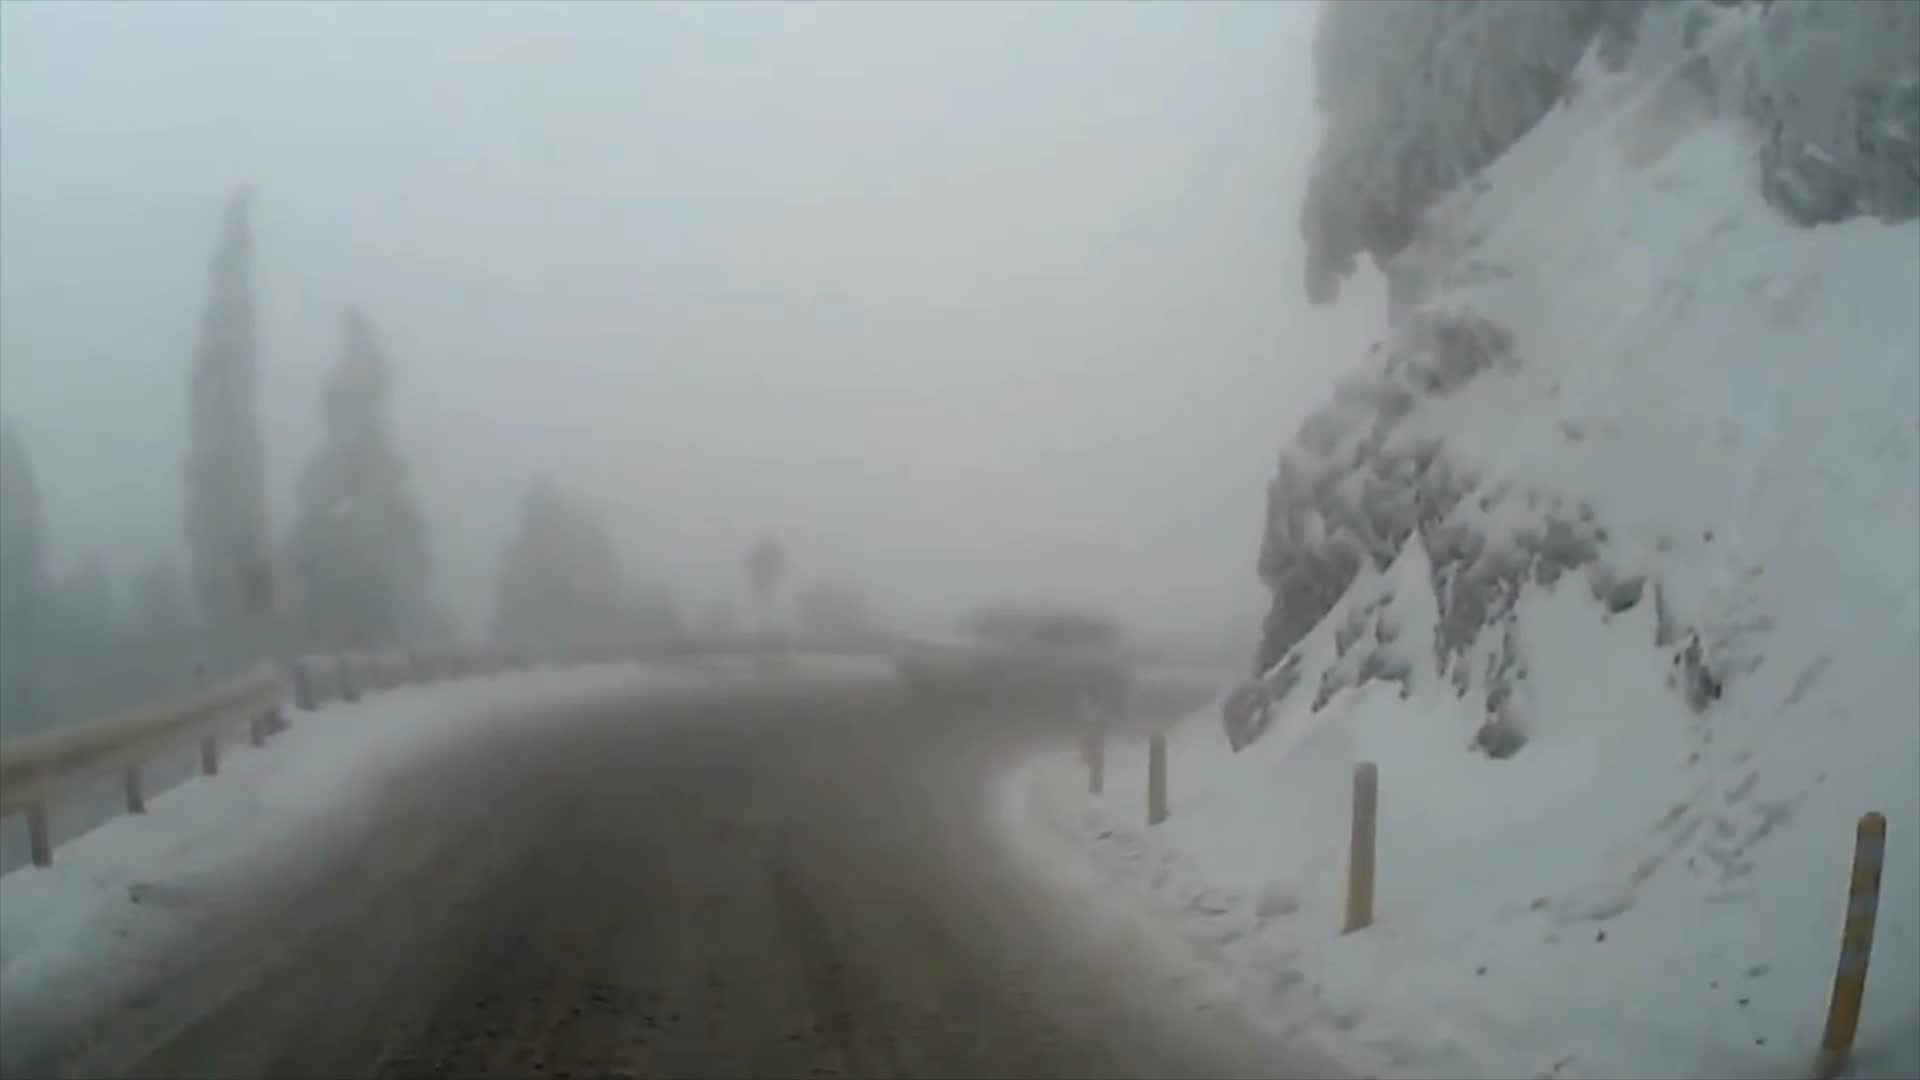vehicle: (882, 597, 1129, 716)
